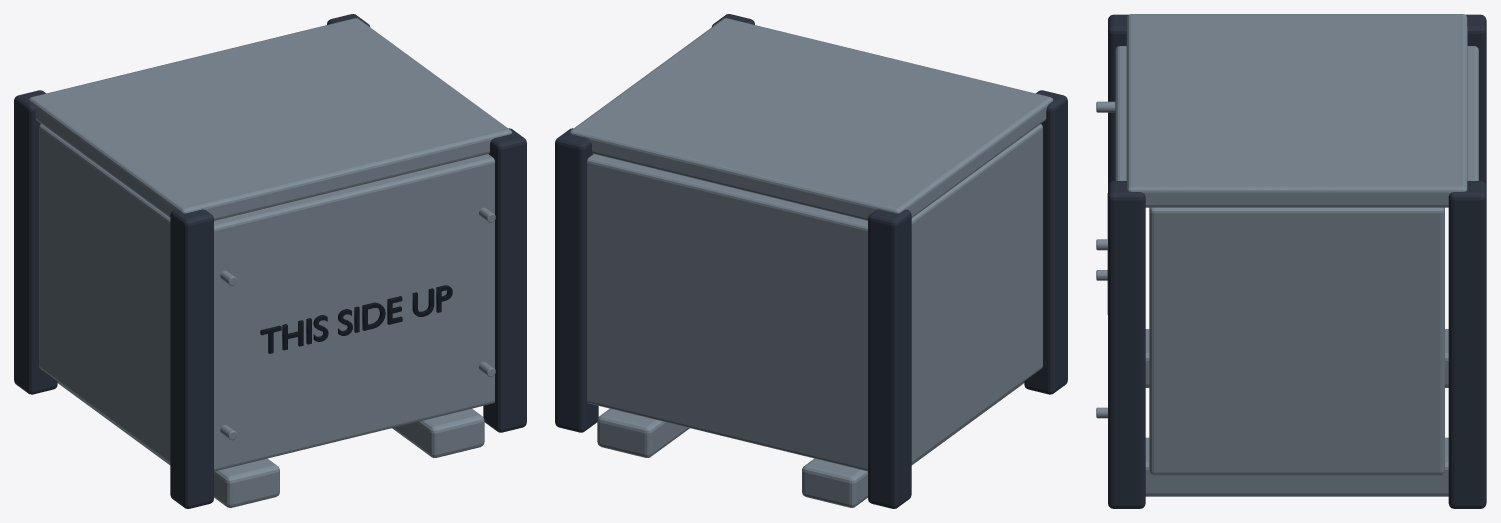
Rendered from prop_data_drive_crate_a_v01.glb.
3 views of the same model, side by side, from view 1: azimuth 30°, elevation 25°; view 2: azimuth 150°, elevation 25°; view 3: azimuth 270°, elevation 25° (orthographic). The views are drawn at different scales.
Parts seen in each view (by area): view 1: component__crate_panels__crate_front, component__crate_panels__crate_top, component__crate_panels__crate_left, component__corner_frame__corner_frame.001, component__corner_frame__corner_frame.003, component__corner_frame__corner_frame.002, component__base_skids__base_skid.001, component__handling_markings__handling_marking, component__base_skids__base_skid; view 2: component__crate_panels__crate_back, component__crate_panels__crate_top, component__crate_panels__crate_left, component__corner_frame__corner_frame.002, component__corner_frame__corner_frame, component__corner_frame__corner_frame.001, component__base_skids__base_skid.001, component__base_skids__base_skid; view 3: component__crate_panels__crate_right, component__crate_panels__crate_top, component__corner_frame__corner_frame, component__corner_frame__corner_frame.003, component__base_skids__base_skid.001, component__corner_frame__corner_frame.002, component__corner_frame__corner_frame.001, component__crate_panels__crate_back, component__crate_panels__crate_front, component__base_skids__base_skid.
Boxes of the visible parts, x1,y1,x2,y2 form: component__crate_panels__crate_front: (214,154,494,471); component__crate_panels__crate_top: (28,18,512,220); component__crate_panels__crate_left: (39,124,170,463); component__corner_frame__corner_frame.001: (170,209,213,508); component__corner_frame__corner_frame.003: (483,128,526,432); component__corner_frame__corner_frame.002: (14,90,57,394); component__base_skids__base_skid.001: (392,408,484,457); component__handling_markings__handling_marking: (260,285,452,353); component__base_skids__base_skid: (57,381,279,507); component__crate_panels__crate_back: (587,154,867,471); component__crate_panels__crate_top: (569,18,1053,220); component__crate_panels__crate_left: (911,124,1042,463); component__corner_frame__corner_frame.002: (868,209,911,508); component__corner_frame__corner_frame: (555,128,598,432); component__corner_frame__corner_frame.001: (1024,90,1067,394); component__base_skids__base_skid.001: (597,408,689,457); component__base_skids__base_skid: (802,381,1024,507); component__crate_panels__crate_right: (1149,207,1444,475); component__crate_panels__crate_top: (1126,14,1467,207); component__corner_frame__corner_frame: (1448,181,1486,508); component__corner_frame__corner_frame.003: (1108,181,1145,508); component__base_skids__base_skid.001: (1145,437,1448,496); component__corner_frame__corner_frame.002: (1465,14,1486,186); component__corner_frame__corner_frame.001: (1108,14,1128,185); component__crate_panels__crate_back: (1467,46,1478,180); component__crate_panels__crate_front: (1115,46,1126,180); component__base_skids__base_skid: (1145,329,1448,387).
Size of the model in its own units: 1.14 by 0.96 by 1.03.
